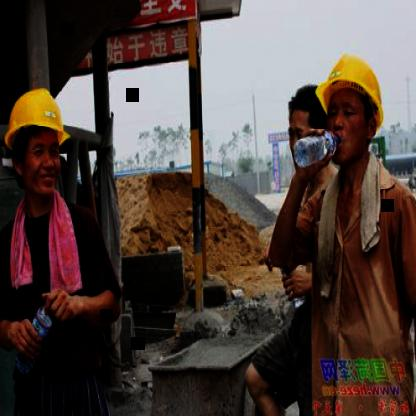head: (282, 80, 329, 178)
helmet: (314, 40, 390, 165), (0, 78, 70, 206)
